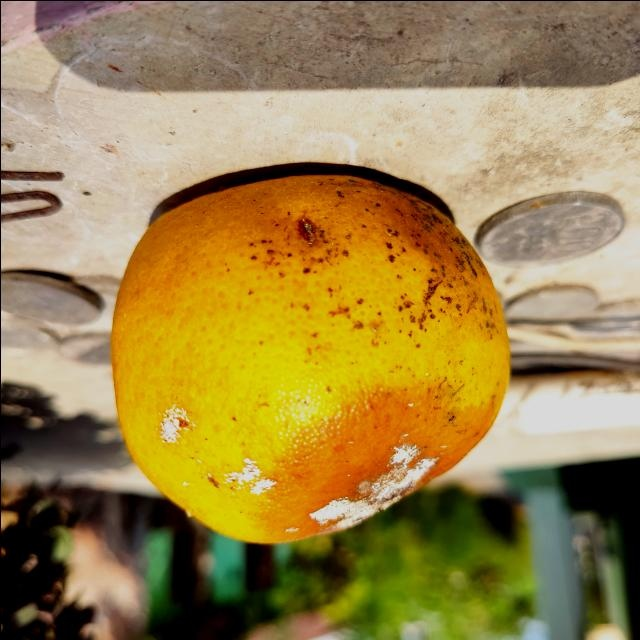agrume: (102, 170, 510, 550)
